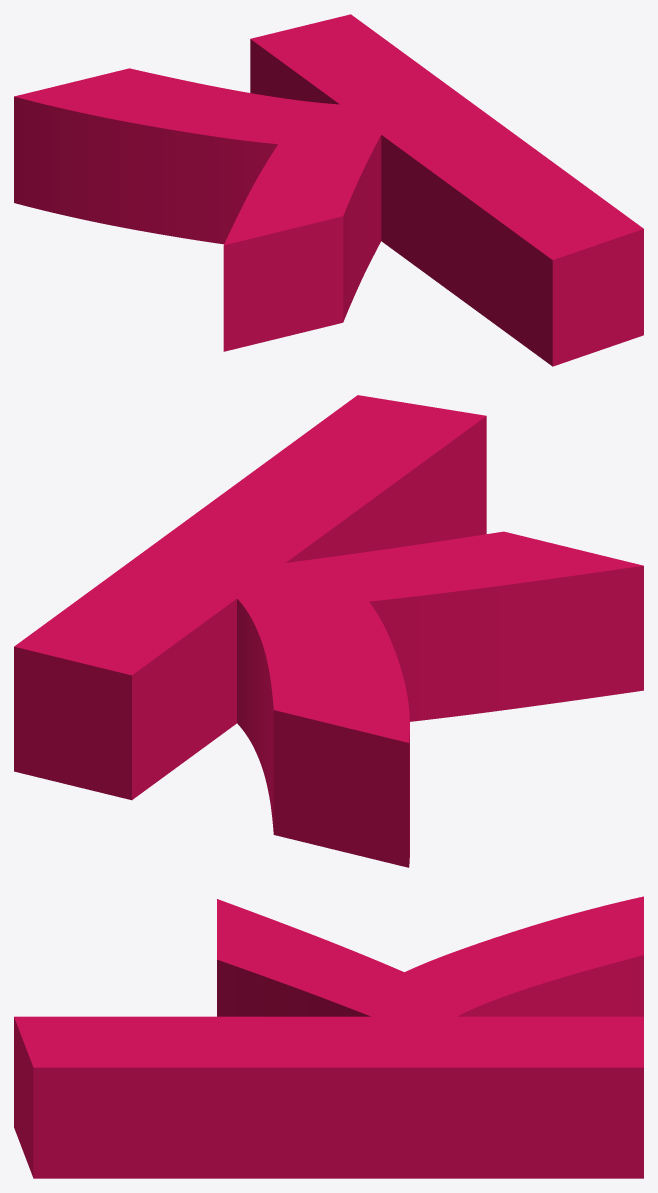
File: icon-symbol-raspberry.glb
3 views of the same model, one above another, from view 1: azimuth 30°, elevation 25°; view 2: azimuth 150°, elevation 25°; view 3: azimuth 270°, elevation 25° (orthographic). The views are drawn at different scales.
Visible parts, largest first — view 1: Curve.001; view 2: Curve.001; view 3: Curve.001.
Part boxes in pixels (bbox=[...]): Curve.001: bbox=[14, 14, 643, 366]; Curve.001: bbox=[14, 395, 643, 867]; Curve.001: bbox=[14, 896, 643, 1178].
Bounding box in the file's own units: 1.3 × 0.393 × 2.02.
